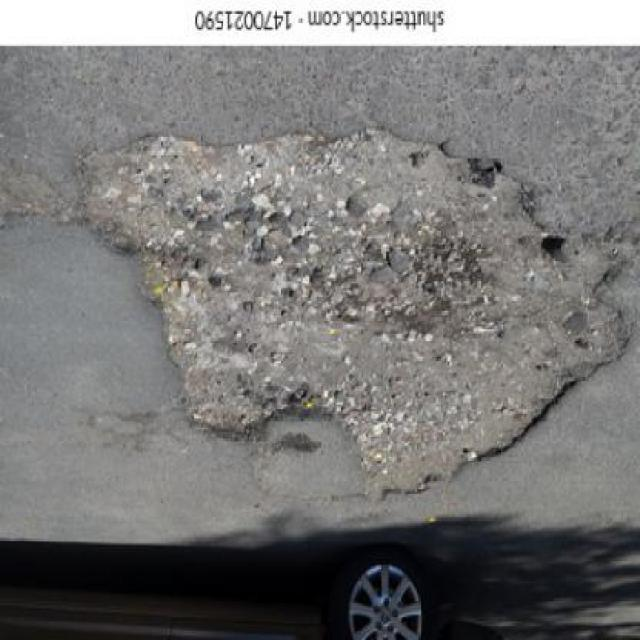pothole: (21, 103, 638, 522)
